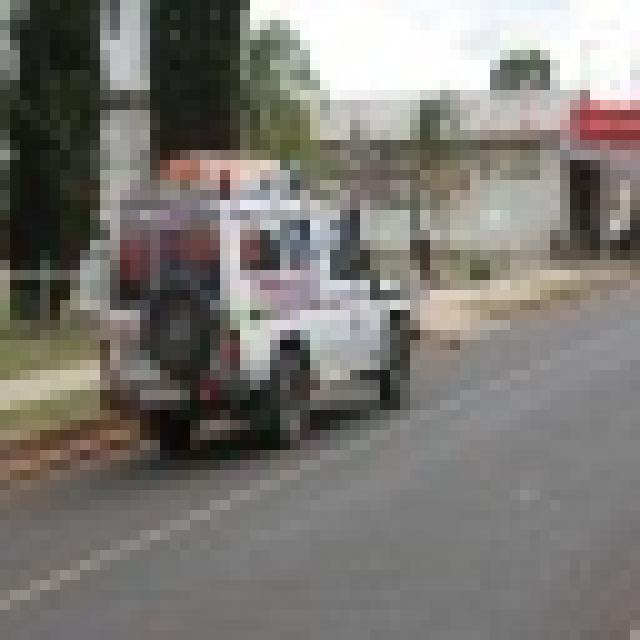Ambulance: (90, 140, 420, 450)
